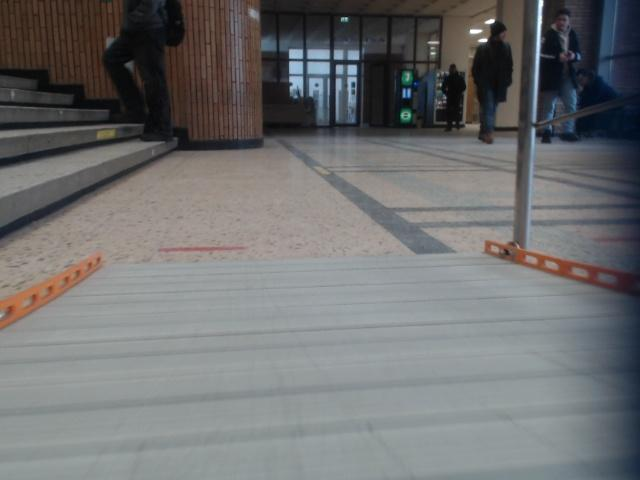rampDown: (0, 244, 639, 479)
ramps-railing: (513, 0, 639, 249)
